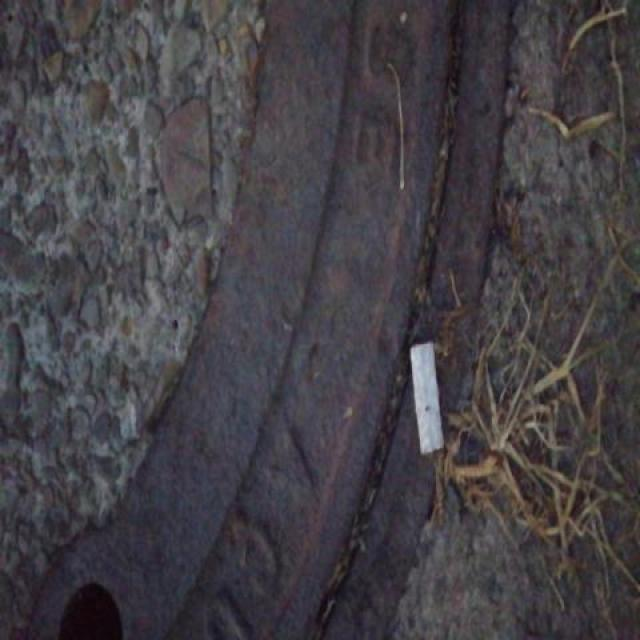non-organic waste: (406, 338, 446, 458)
